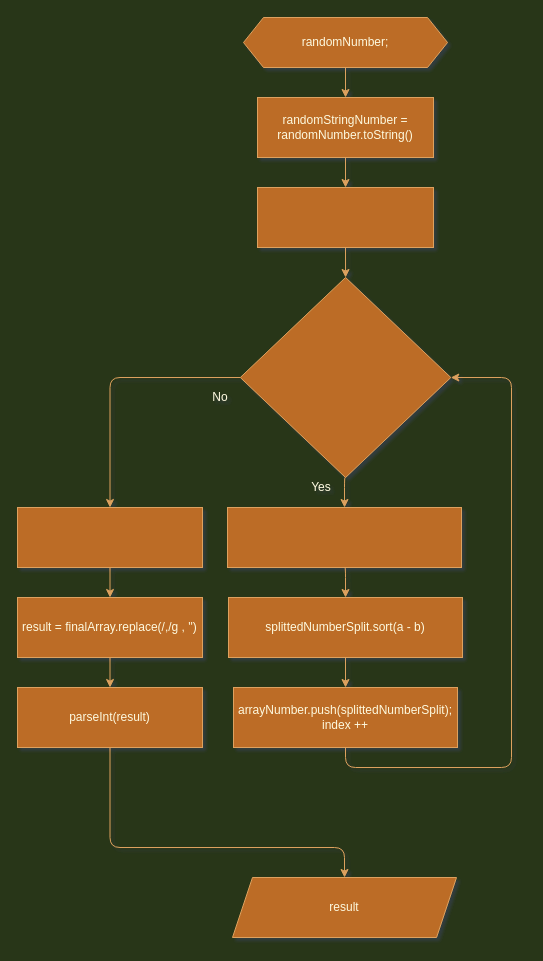
This 543x961 diagram has some shape labels left out. The shapes that lost their labels are listed below. From the top down, each one's box as (x1, y1, x2, y2) in pixels, then its label:
(256, 186, 434, 248): splittedNumber = randomStringNumber .split(0)
(239, 276, 451, 478): index = 0 index < splittedNumber.length ?
(16, 506, 202, 568): finalArray = arrayNumber.join()
(226, 506, 462, 568): splittedNumberSplit = randomStringNumber[index] .split('')
